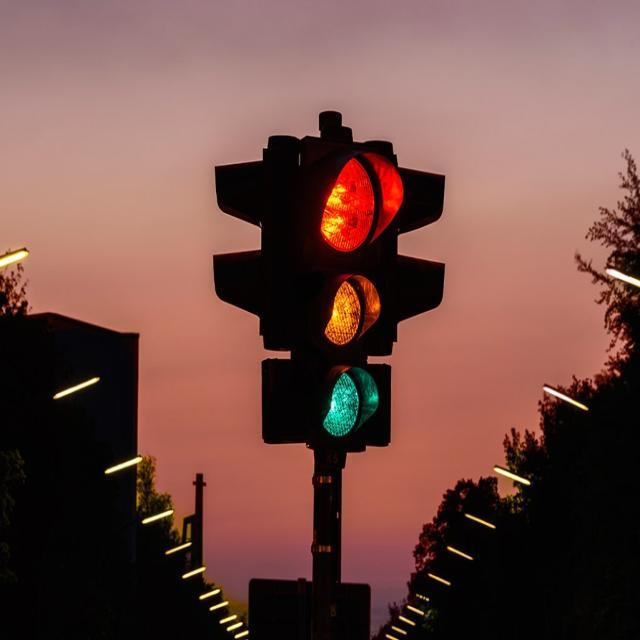suv: (302, 134, 384, 452)
